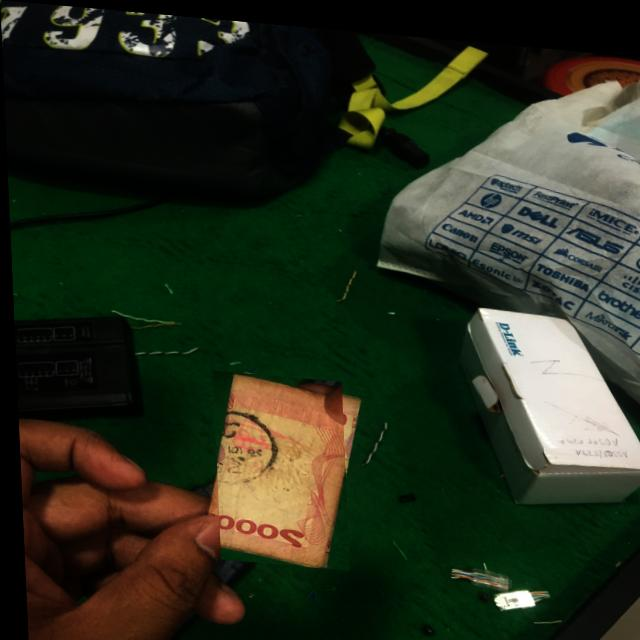Taka: (209, 367, 345, 565)
